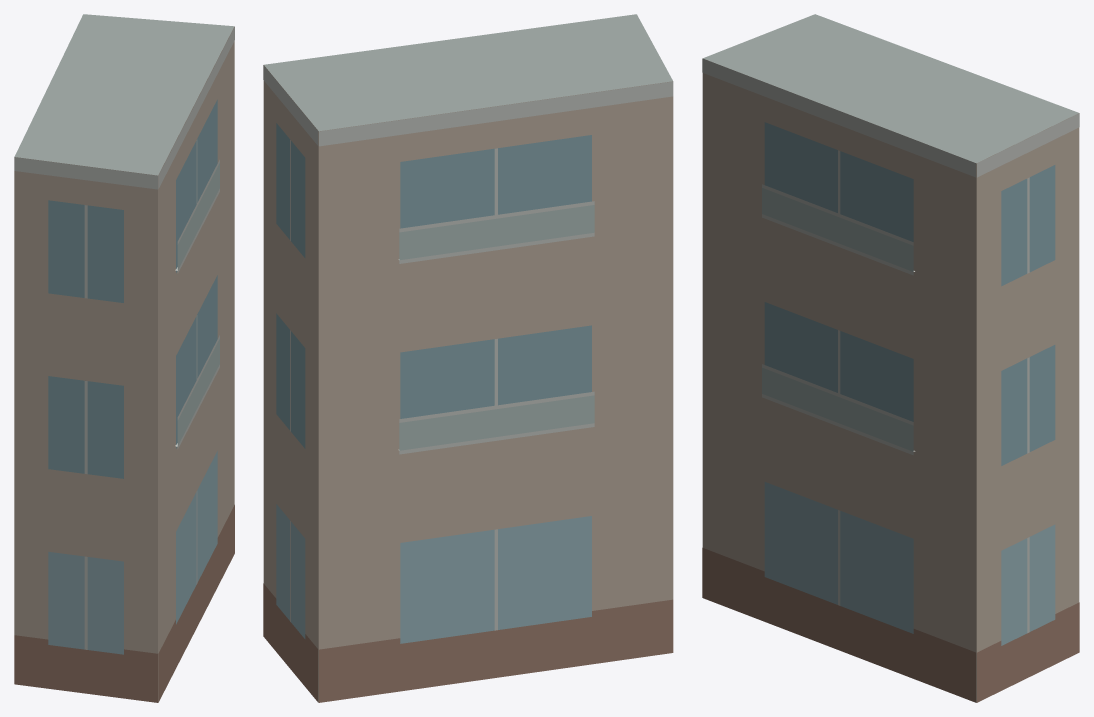
File: survey-upis-32476191.glb
The picture shows the model from 3 angles, left to right: view 1: azimuth 30°, elevation 25°; view 2: azimuth 150°, elevation 25°; view 3: azimuth 270°, elevation 25°; orthographic projection. The views are drawn at different scales.
Parts seen in each view (by area): view 1: survey-upis-32476191.tmp; view 2: survey-upis-32476191.tmp; view 3: survey-upis-32476191.tmp.
Part boxes in pixels (x1,y1,x2,y2): survey-upis-32476191.tmp: (14,14,234,702); survey-upis-32476191.tmp: (263,14,673,702); survey-upis-32476191.tmp: (702,14,1079,702).
Bounding box in the file's own units: 5.44 × 9.15 × 5.8.
